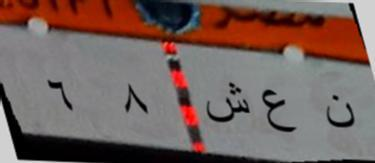6: (44, 74, 77, 120)
8: (118, 76, 150, 124)
ain: (260, 83, 300, 143)
noon: (318, 86, 356, 137)
sheen: (200, 74, 252, 132)
